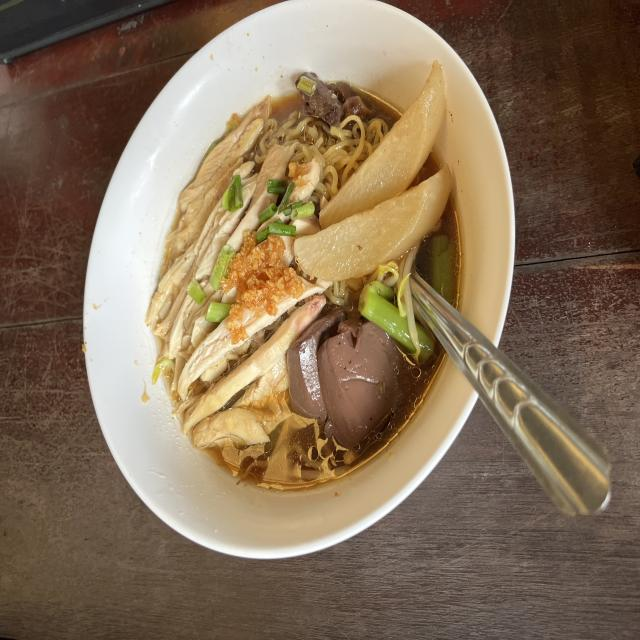noodle: (291, 309, 392, 424)
